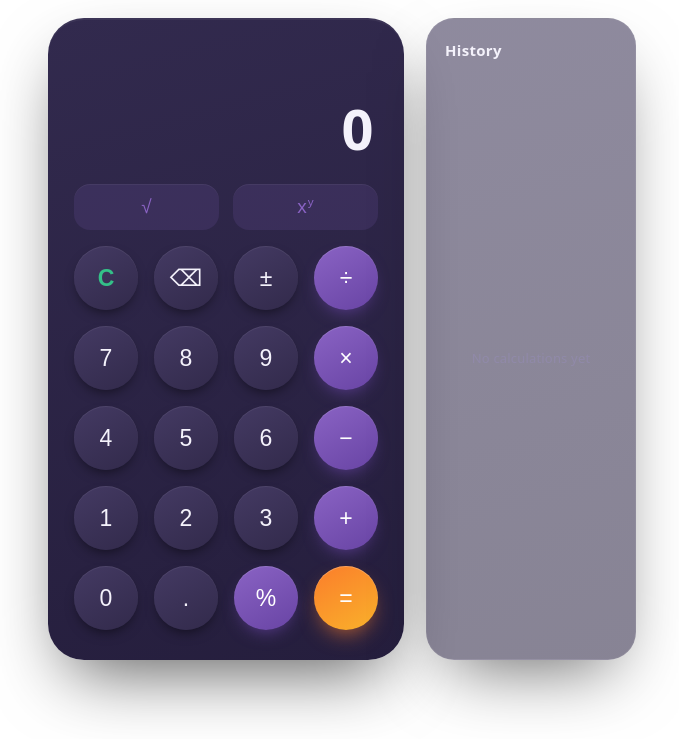
Test: <Calculator /> › shows the pending operation in the expression line
Click the button "1" at point(106, 518), box [74,486,138,550]
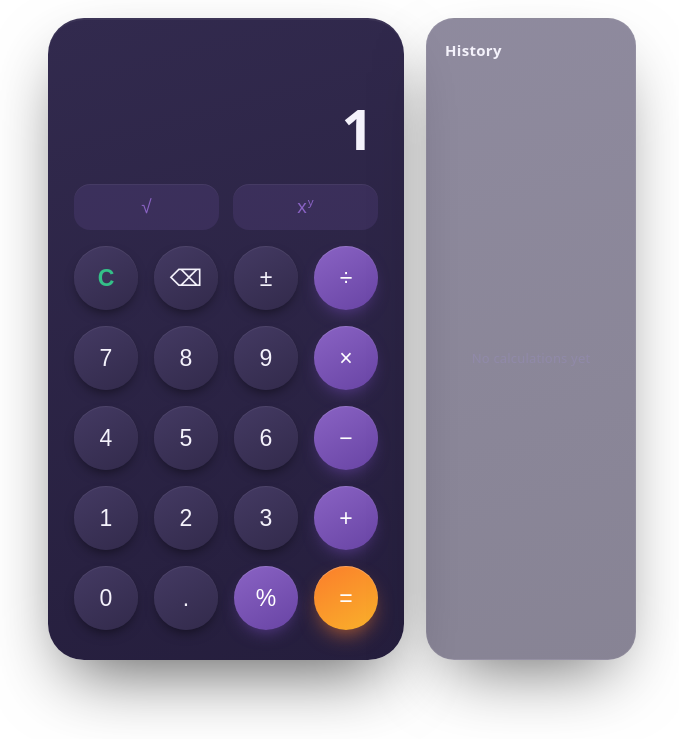
Click the button "+" at point(346, 518), box [314,486,378,550]
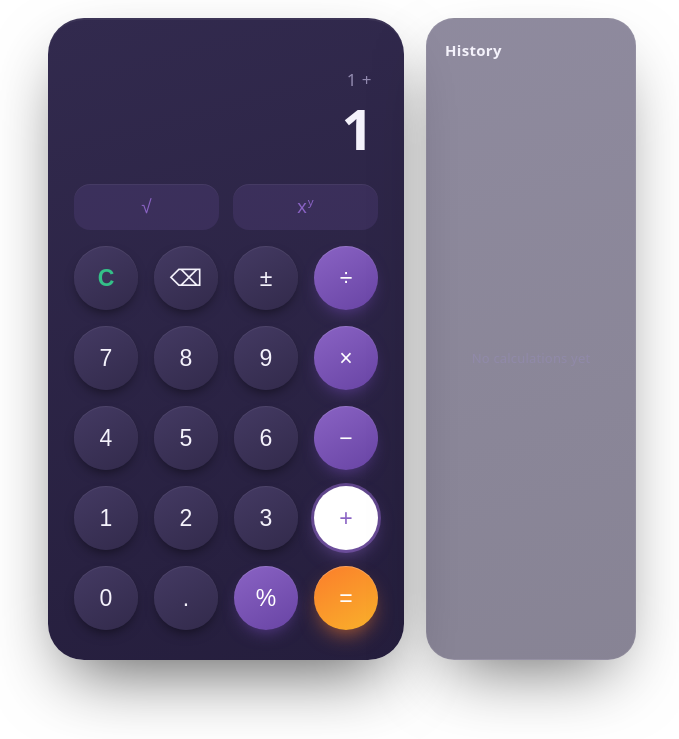
Expected: the text with class "calculator-expression" reads "1 +", [347,68,372,91]
